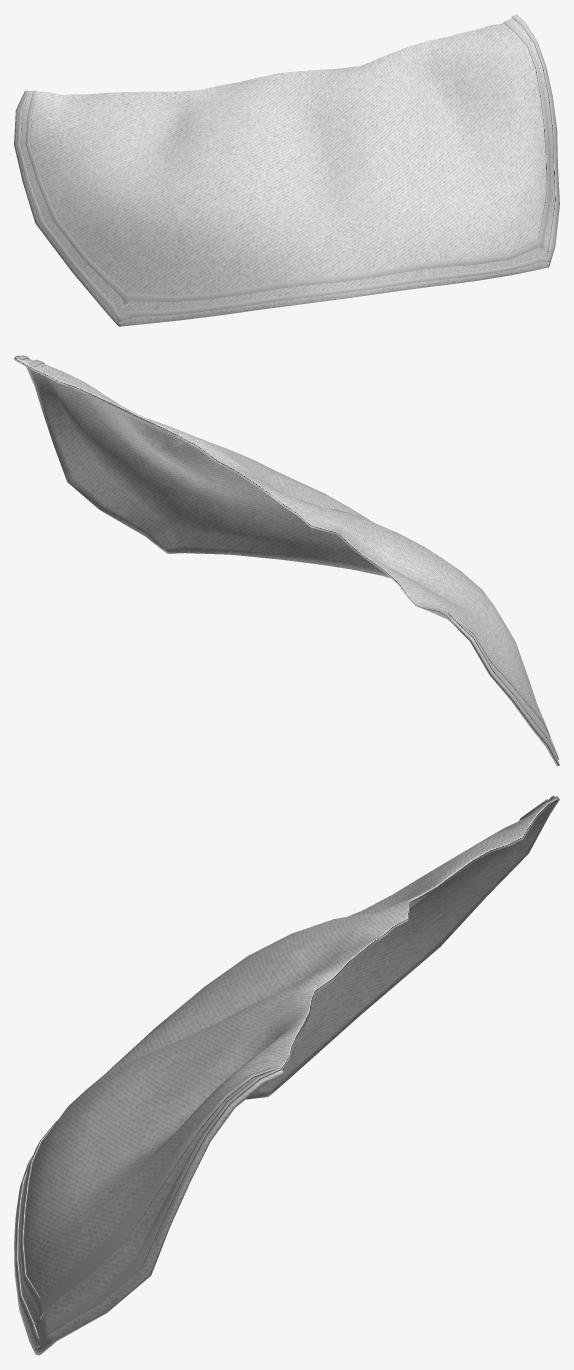
Rendered from Jac_Pocket_LEFT_V1.glb.
The picture shows the model from 3 angles, top to bottom: view 1: azimuth 30°, elevation 25°; view 2: azimuth 150°, elevation 25°; view 3: azimuth 270°, elevation 25°; orthographic projection. The views are drawn at different scales.
Parts seen in each view (by area): view 1: Jac_Pocket_LEFT_V11, Rope1; view 2: Jac_Pocket_LEFT_V11, Rope1; view 3: Jac_Pocket_LEFT_V11, Rope1.
Boxes of the visible parts, x1=… form: Jac_Pocket_LEFT_V11: x1=14, y1=14, x2=559, y2=326; Rope1: x1=16, y1=15, x2=558, y2=321; Jac_Pocket_LEFT_V11: x1=14, y1=355, x2=559, y2=766; Rope1: x1=18, y1=355, x2=559, y2=759; Jac_Pocket_LEFT_V11: x1=14, y1=796, x2=559, y2=1355; Rope1: x1=14, y1=795, x2=554, y2=1347.
Size of the model in its own units: 0.2007 by 0.0918 by 0.1278.
2 materials, 2 textured.
